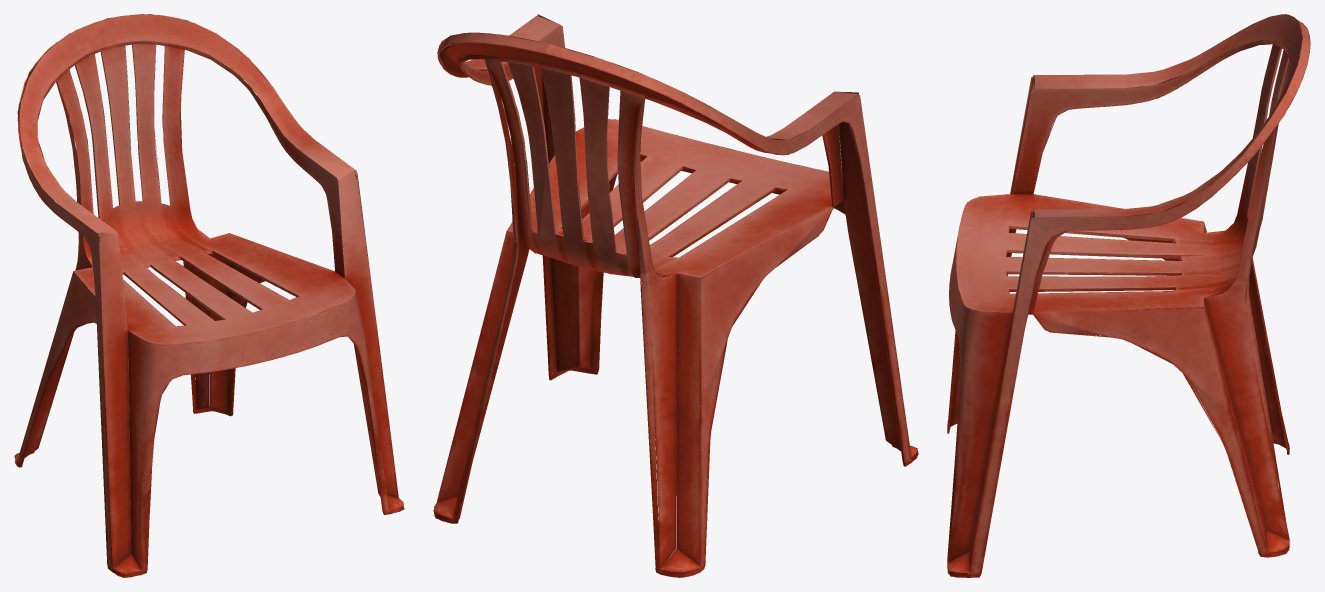
Rendered from isl_monobloc.glb.
3 views of the same model, side by side, from view 1: azimuth 30°, elevation 25°; view 2: azimuth 150°, elevation 25°; view 3: azimuth 270°, elevation 25° (orthographic). The views are drawn at different scales.
Visible parts, largest first — view 1: plastic_monobloc_chair_01; view 2: plastic_monobloc_chair_01; view 3: plastic_monobloc_chair_01.
Part boxes in pixels (box(x1,y1,x2,y2)): plastic_monobloc_chair_01: box(14, 14, 404, 577); plastic_monobloc_chair_01: box(433, 14, 918, 577); plastic_monobloc_chair_01: box(947, 14, 1310, 577).
Bounding box in the file's own units: 0.6455 × 0.8806 × 0.6282.
1 material, 1 textured.
